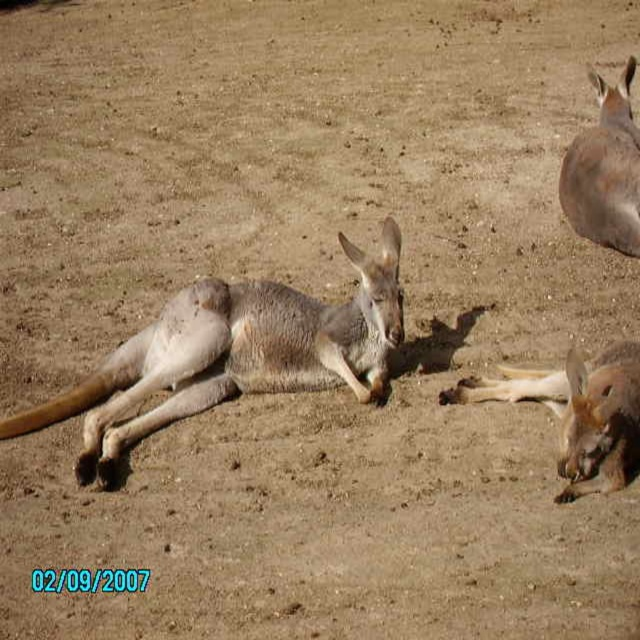Kangaroo: (0, 220, 406, 497), (435, 341, 639, 508), (555, 56, 639, 259)
